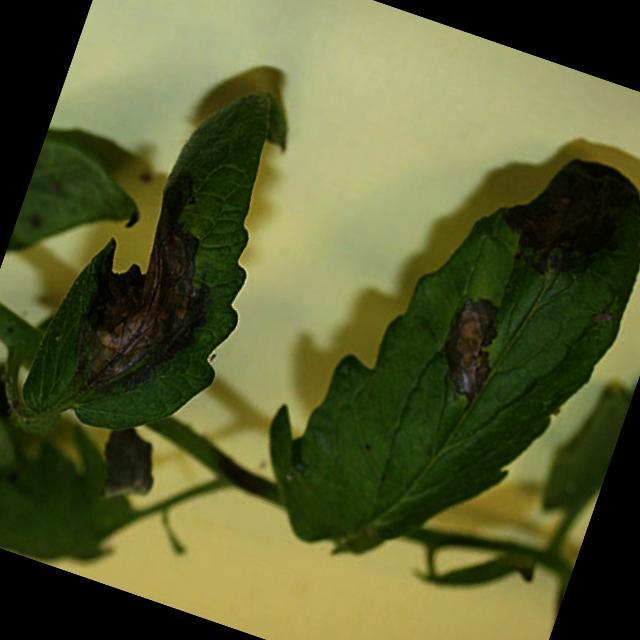Tomato late blight leaf: (233, 82, 640, 621), (8, 49, 308, 483)
